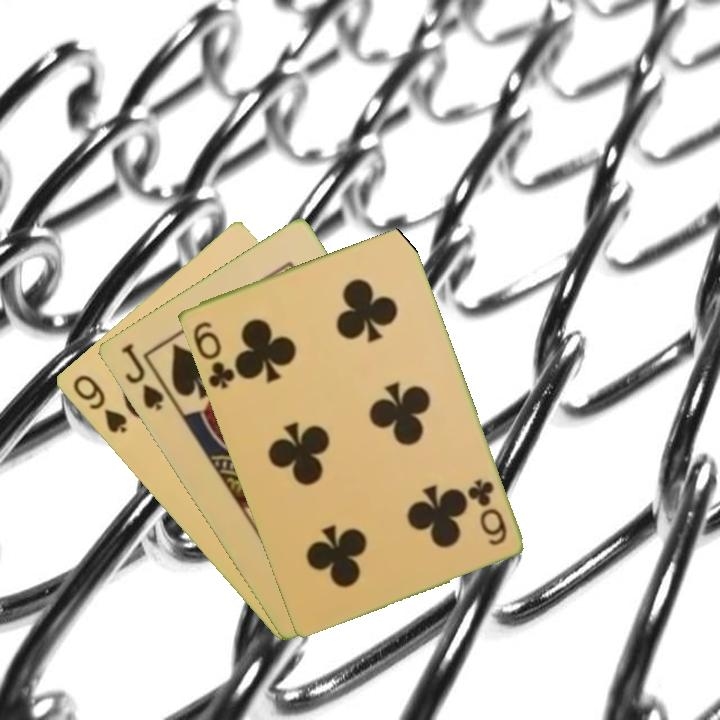6c: (189, 317, 238, 392), (464, 475, 510, 549)
9s: (69, 371, 130, 436)
Js: (117, 339, 167, 414)
